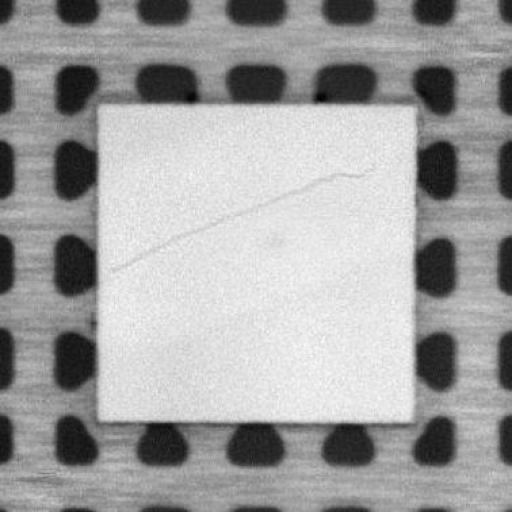DIE_CRACK: (111, 166, 362, 268)
